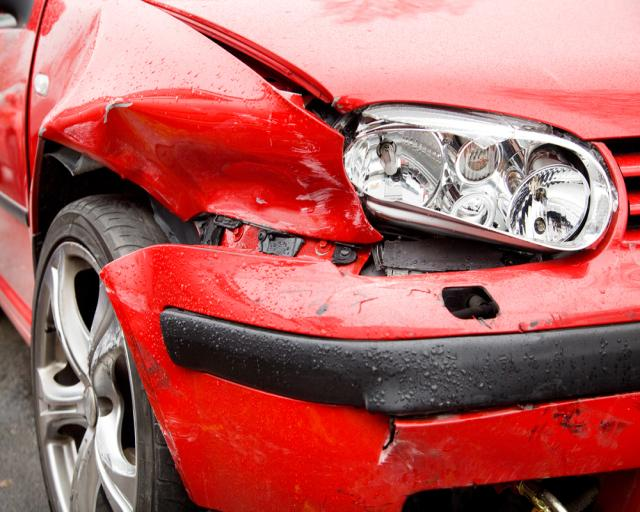crack: (379, 417, 397, 462)
dent: (38, 90, 382, 243)
lamp broken: (337, 102, 616, 257)
scratch: (129, 331, 186, 470), (532, 402, 640, 435)
